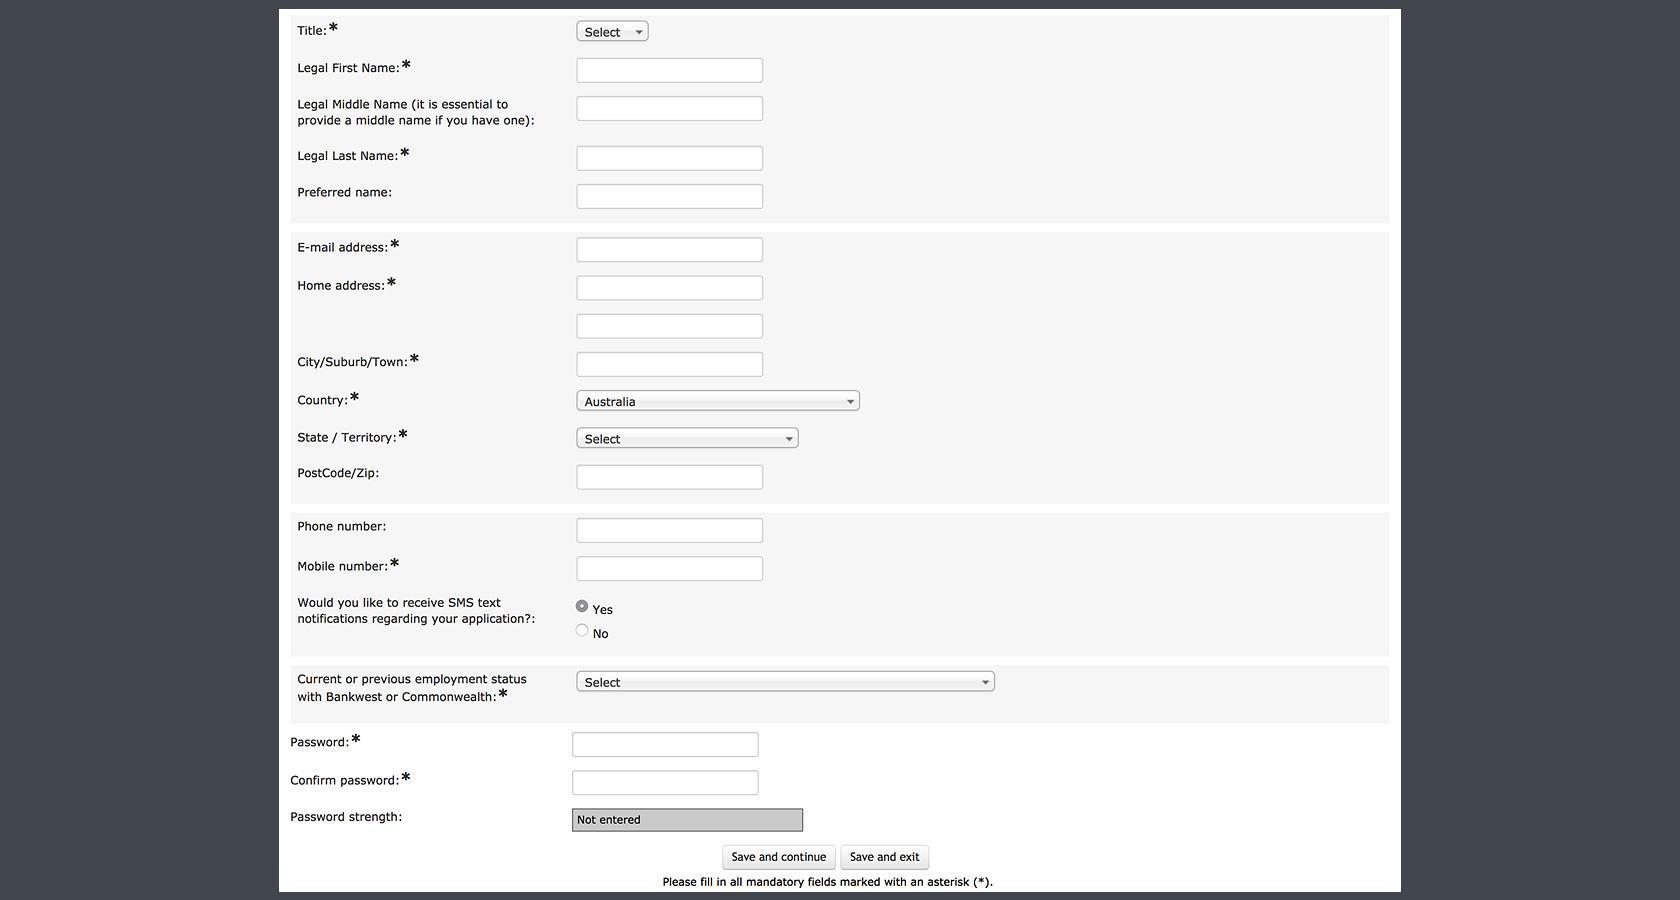button: (726, 844, 839, 871), (841, 847, 930, 872)
dropdown: (577, 674, 996, 691), (576, 391, 863, 413), (576, 426, 801, 450), (577, 19, 651, 43)
input: (576, 94, 763, 124), (578, 314, 766, 343), (579, 464, 764, 493), (573, 810, 804, 832), (578, 557, 766, 583), (573, 733, 761, 760), (578, 276, 764, 302), (579, 518, 766, 544), (574, 770, 759, 797), (578, 184, 766, 210), (577, 239, 764, 264), (578, 147, 764, 172), (576, 58, 764, 82), (578, 353, 766, 376)
label: (294, 668, 534, 708), (296, 96, 537, 132), (297, 597, 542, 624), (297, 428, 410, 451), (294, 351, 424, 370), (296, 236, 401, 258), (286, 772, 414, 790), (296, 59, 416, 78), (296, 274, 402, 296), (296, 556, 408, 576), (296, 148, 414, 166), (286, 809, 410, 826), (293, 184, 393, 203), (296, 466, 383, 486), (296, 520, 392, 538), (286, 733, 368, 752), (296, 391, 363, 408), (296, 21, 344, 41), (592, 603, 616, 618), (596, 627, 610, 641)
radio: (576, 624, 591, 640), (577, 599, 590, 614)
